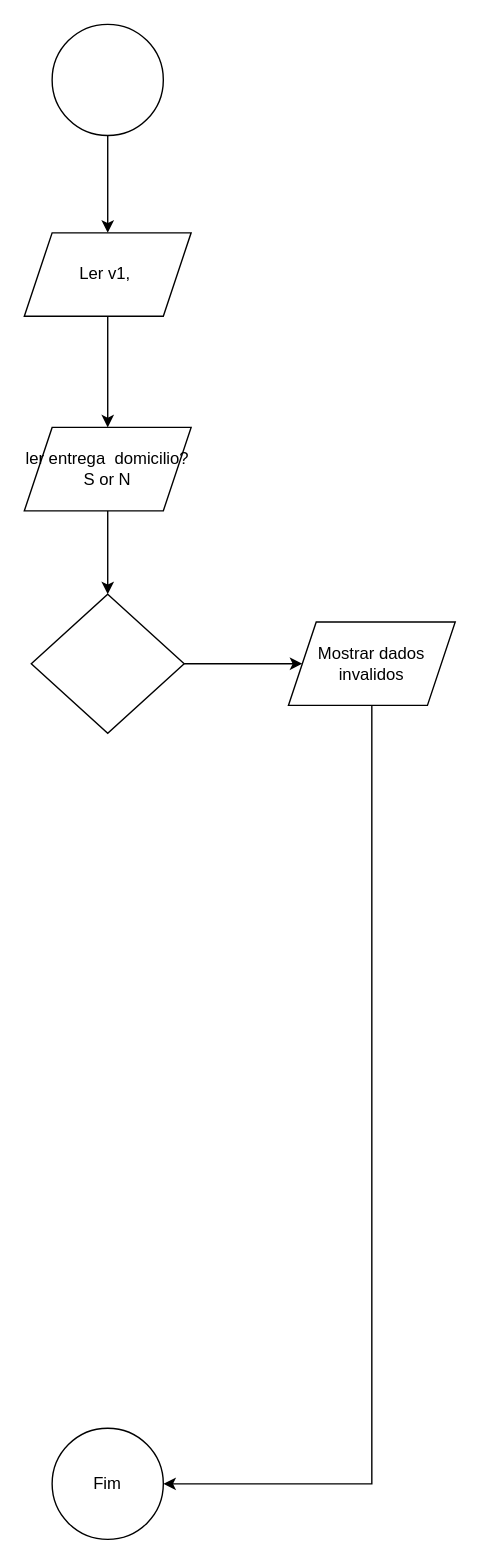
Image size: 480x1564. Some labels were removed from this diagram. The box of each missing label's shape, as (x1, y1, x2, y2) in pixels:
Inicio: (51, 23, 163, 136)
v1 <= 0: (30, 593, 184, 733)
